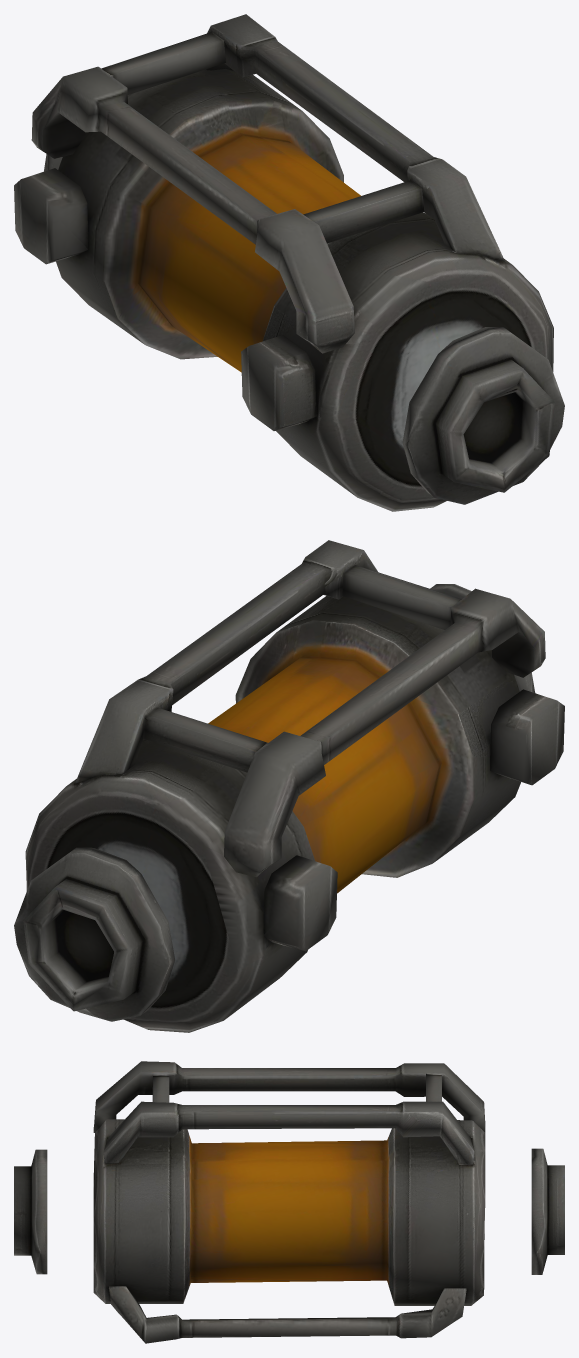
Rendered from cold-iron-v2-battery-a-cell.glb.
3 renders of one model, top to bottom at view 1: azimuth 30°, elevation 25°; view 2: azimuth 150°, elevation 25°; view 3: azimuth 270°, elevation 25°, orthographic. The views are drawn at different scales.
Parts seen in each view (by area): view 1: tripo_node_1c61e226-b41e-4761-b581-3d57a82f3ec6; view 2: tripo_node_1c61e226-b41e-4761-b581-3d57a82f3ec6; view 3: tripo_node_1c61e226-b41e-4761-b581-3d57a82f3ec6.
Boxes of the visible parts, x1,y1,x2,y2 form: tripo_node_1c61e226-b41e-4761-b581-3d57a82f3ec6: (14, 14, 564, 511); tripo_node_1c61e226-b41e-4761-b581-3d57a82f3ec6: (14, 540, 564, 1032); tripo_node_1c61e226-b41e-4761-b581-3d57a82f3ec6: (14, 1061, 564, 1343).
Size of the model in its own units: 0.3926 by 0.4395 by 0.998.
1 material, 1 textured.
